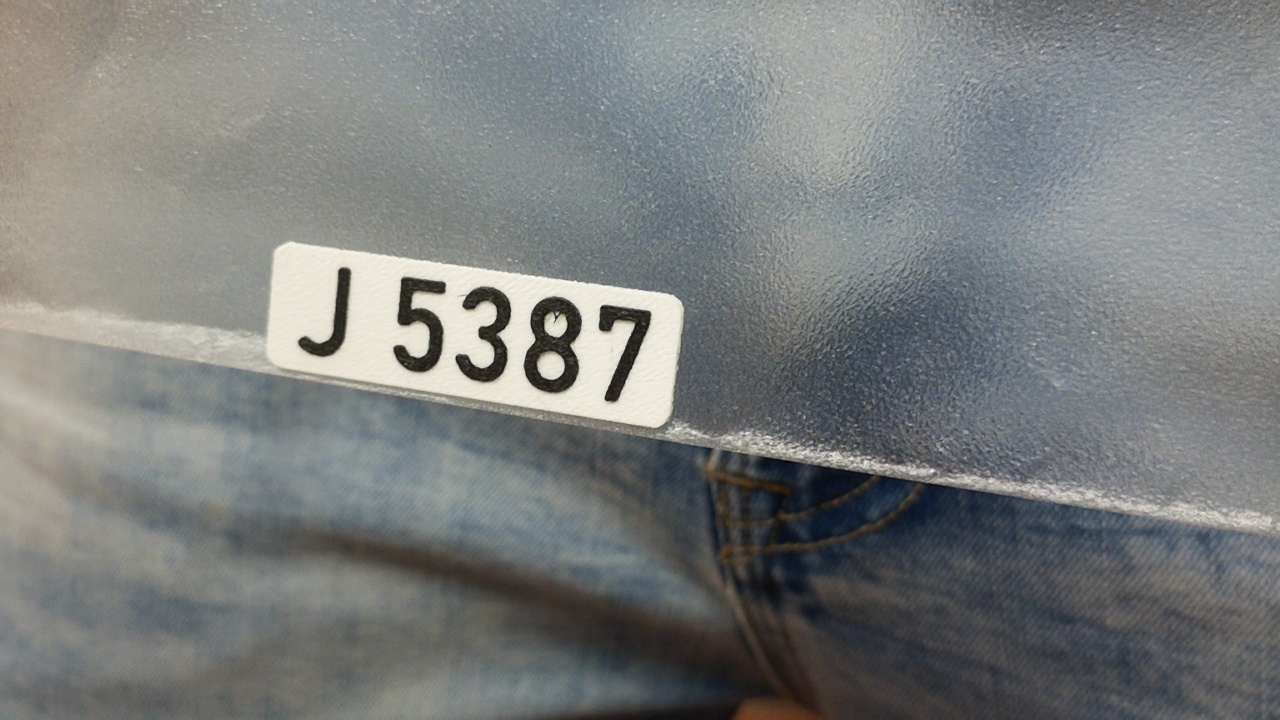license_plate: (260, 237, 689, 433)
